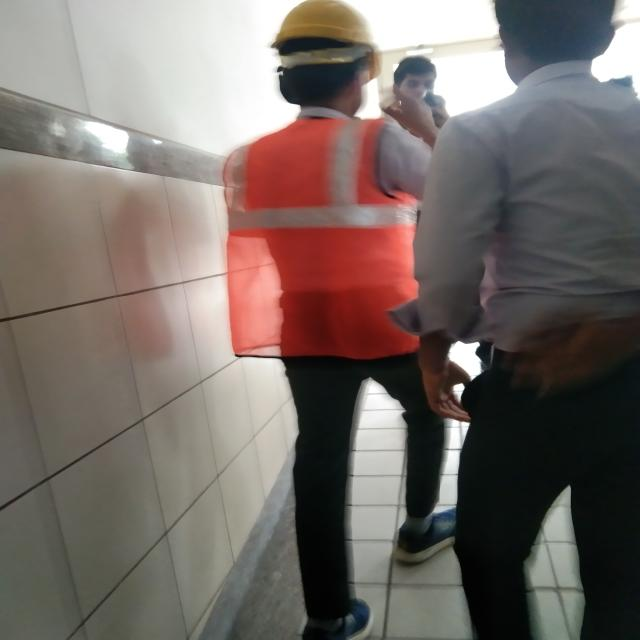safe: (210, 0, 466, 640)
unsafe: (431, 0, 640, 639)
